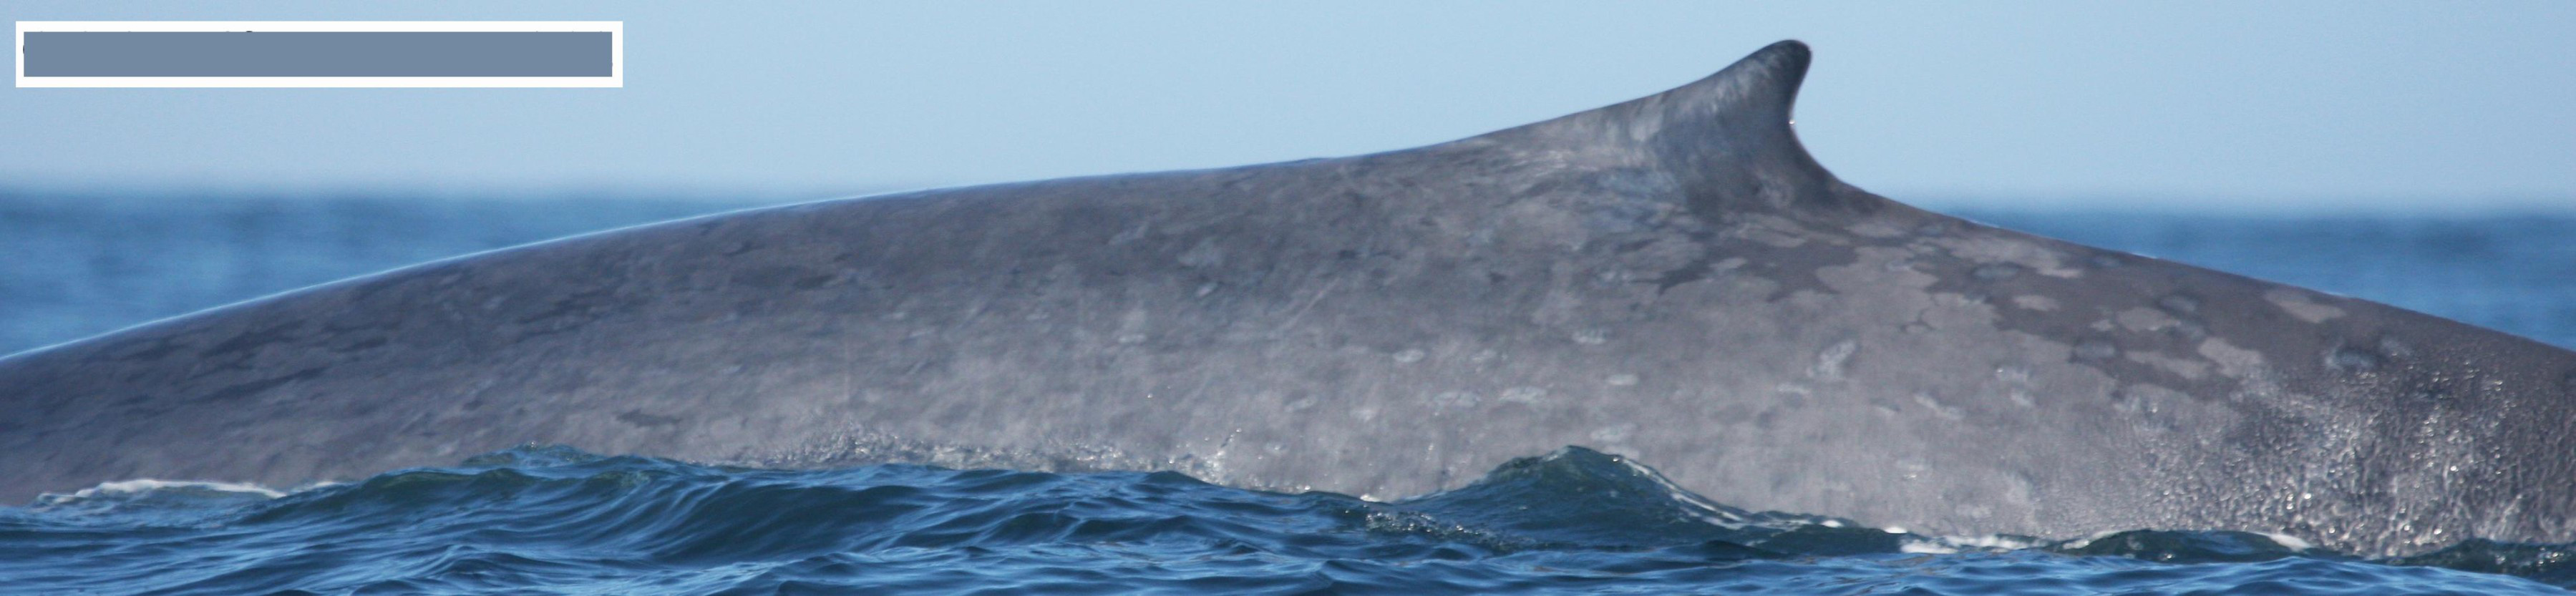fin: (1431, 26, 1896, 200)
